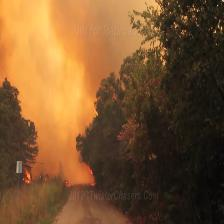fire: (22, 164, 35, 187)
smoke: (0, 0, 162, 130)
